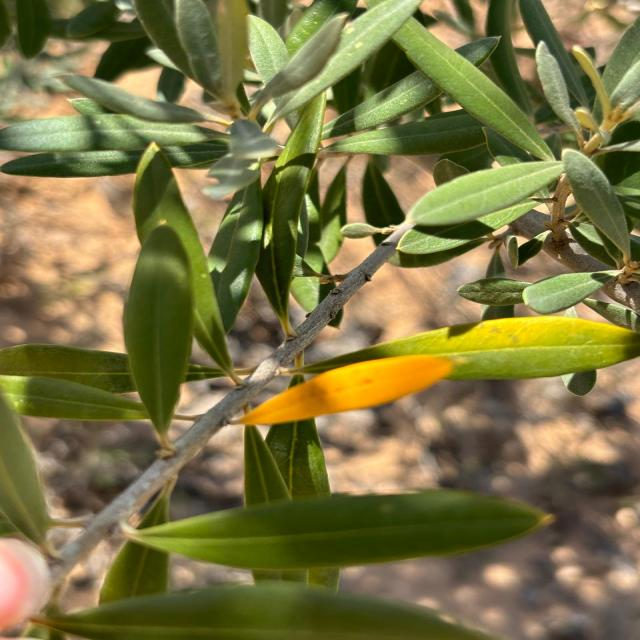Peacock Eye: (315, 316, 639, 379), (229, 355, 453, 425)
